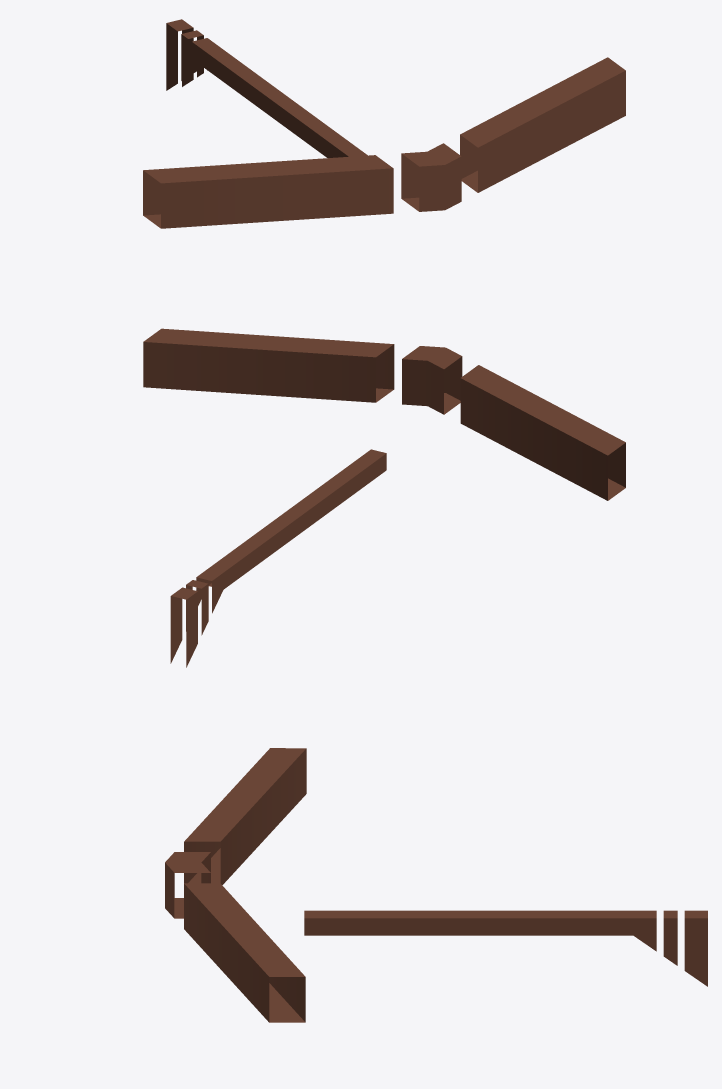
Rendered from Weapon_Shoot_R2.FBX.
3 renders of one model, top to bottom at view 1: azimuth 30°, elevation 25°; view 2: azimuth 150°, elevation 25°; view 3: azimuth 270°, elevation 25°, orthographic.
Parts seen in each view (by area): view 1: RShoot; view 2: RShoot; view 3: RShoot.
Boxes of the visible parts, x1,y1,x2,y2 form: RShoot: (143, 19, 625, 228); RShoot: (143, 328, 625, 667); RShoot: (165, 748, 707, 1022).
Size of the model in its own units: 38.84 by 6.63 by 34.23.
1 material, 1 textured.
